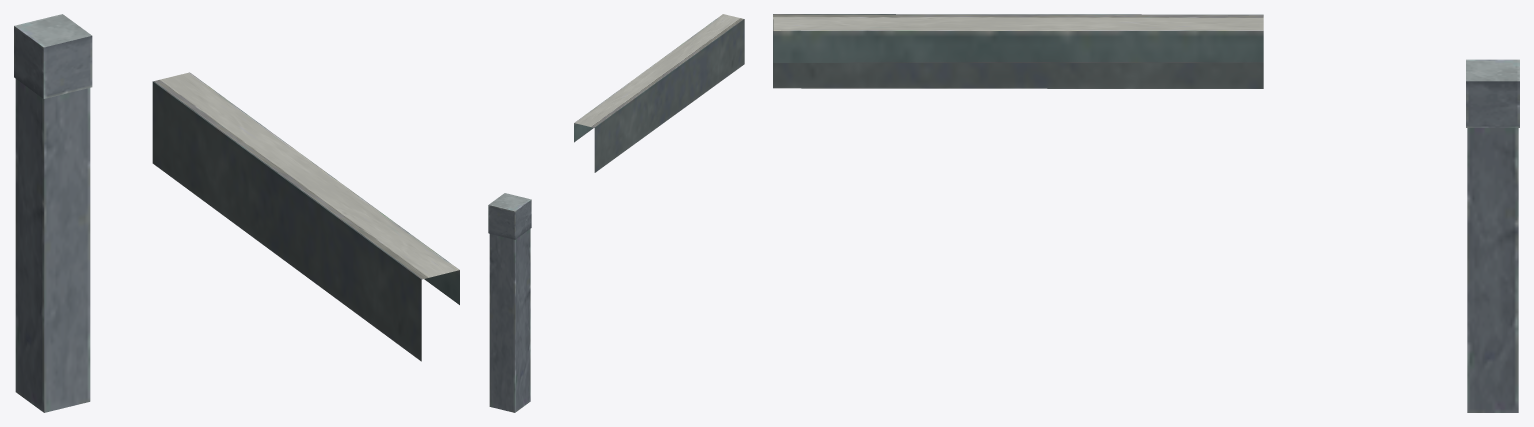
The model's file is jm_dizajian01.FBX.
3 views of the same model, side by side, from view 1: azimuth 30°, elevation 25°; view 2: azimuth 150°, elevation 25°; view 3: azimuth 270°, elevation 25° (orthographic). The views are drawn at different scales.
Visible parts, largest first — view 1: jm_dizajian01_001, jm_dizajian01_002; view 2: jm_dizajian01_001, jm_dizajian01_002; view 3: jm_dizajian01_001, jm_dizajian01_002.
Part boxes in pixels (x1,y1,x2,y2): jm_dizajian01_001: (152,72,459,361); jm_dizajian01_002: (14,14,92,412); jm_dizajian01_001: (574,14,744,172); jm_dizajian01_002: (488,193,531,412); jm_dizajian01_001: (773,14,1263,88); jm_dizajian01_002: (1466,59,1519,412).
Bounding box in the file's own units: 0.3365 × 2.53 × 4.55.
